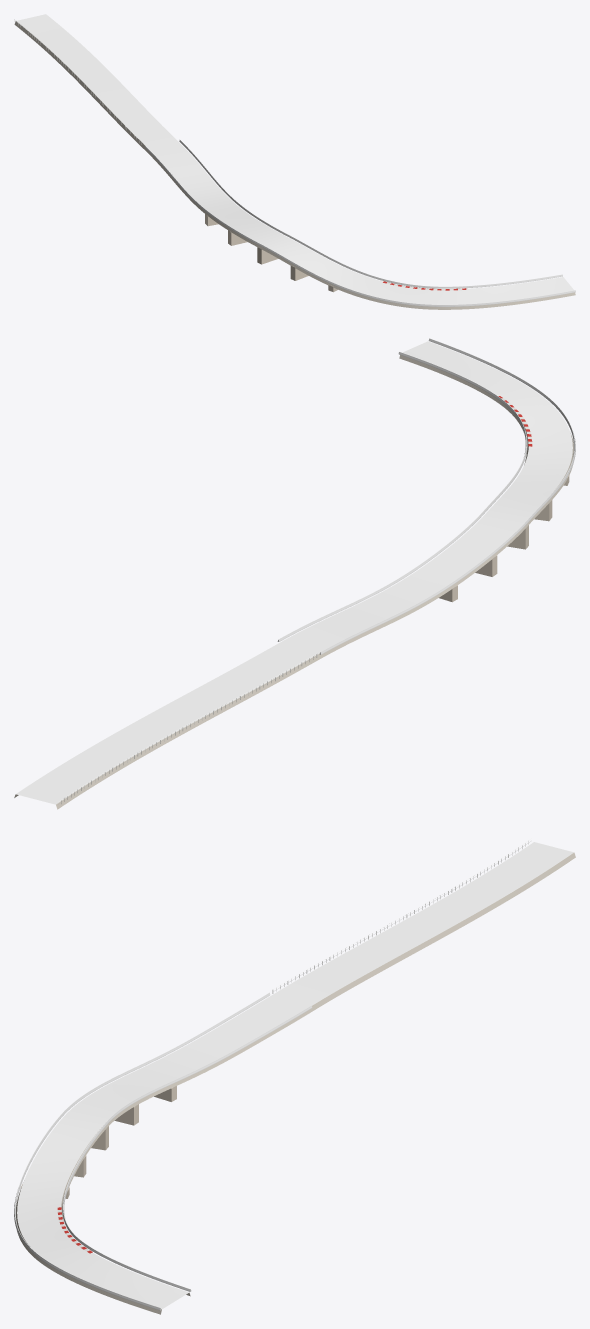
File: SM_JeddahCorniche_Track_11.fbx
3 renders of one model, top to bottom at view 1: azimuth 30°, elevation 25°; view 2: azimuth 150°, elevation 25°; view 3: azimuth 330°, elevation 25°, orthographic. The views are drawn at different scales.
Visible parts, largest first — view 1: SM_JeddahCorniche_Track_11; view 2: SM_JeddahCorniche_Track_11; view 3: SM_JeddahCorniche_Track_11.
Boxes of the visible parts, x1,y1,x2,y2 form: SM_JeddahCorniche_Track_11: (14, 14, 575, 309); SM_JeddahCorniche_Track_11: (14, 338, 575, 809); SM_JeddahCorniche_Track_11: (14, 838, 575, 1314).
Bounding box in the file's own units: 10179 × 977 × 36275.
